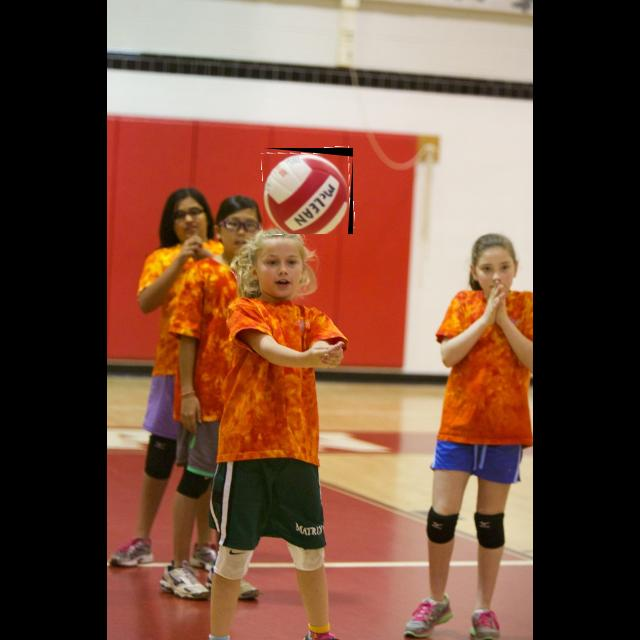Football: (263, 148, 353, 234)
